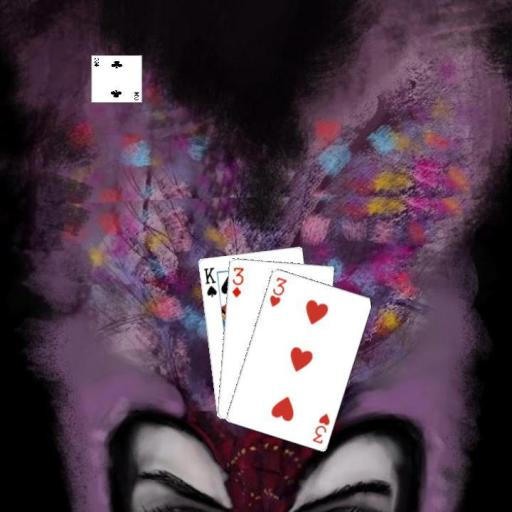3D: (229, 264, 245, 299)
3H: (309, 410, 331, 445), (266, 274, 288, 308)
KS: (201, 264, 218, 299)
